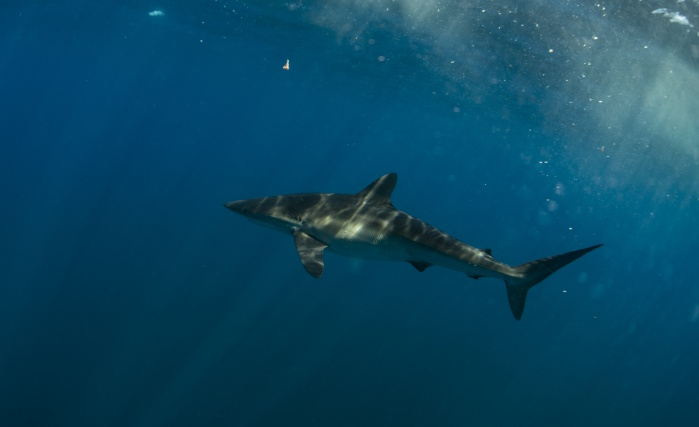Sedoso: (217, 162, 613, 336)
